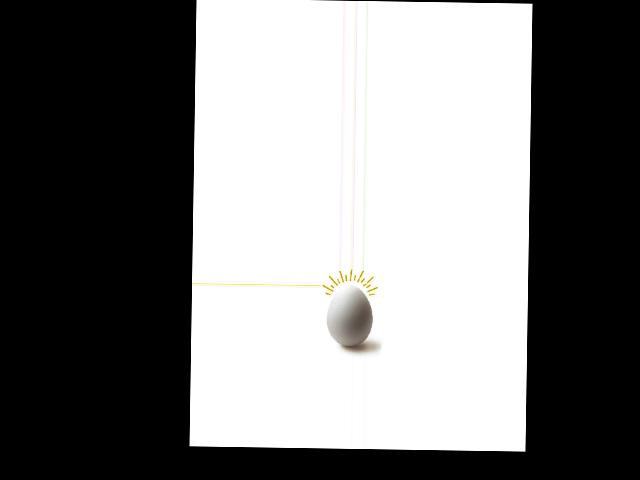egg: (325, 285, 372, 346)
